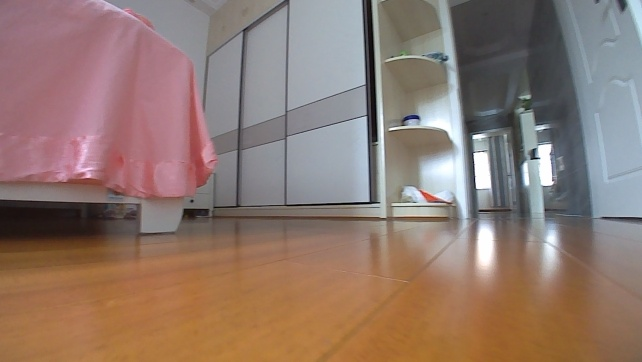bed1: (0, 0, 218, 238)
door_anno: (545, 0, 641, 221)
